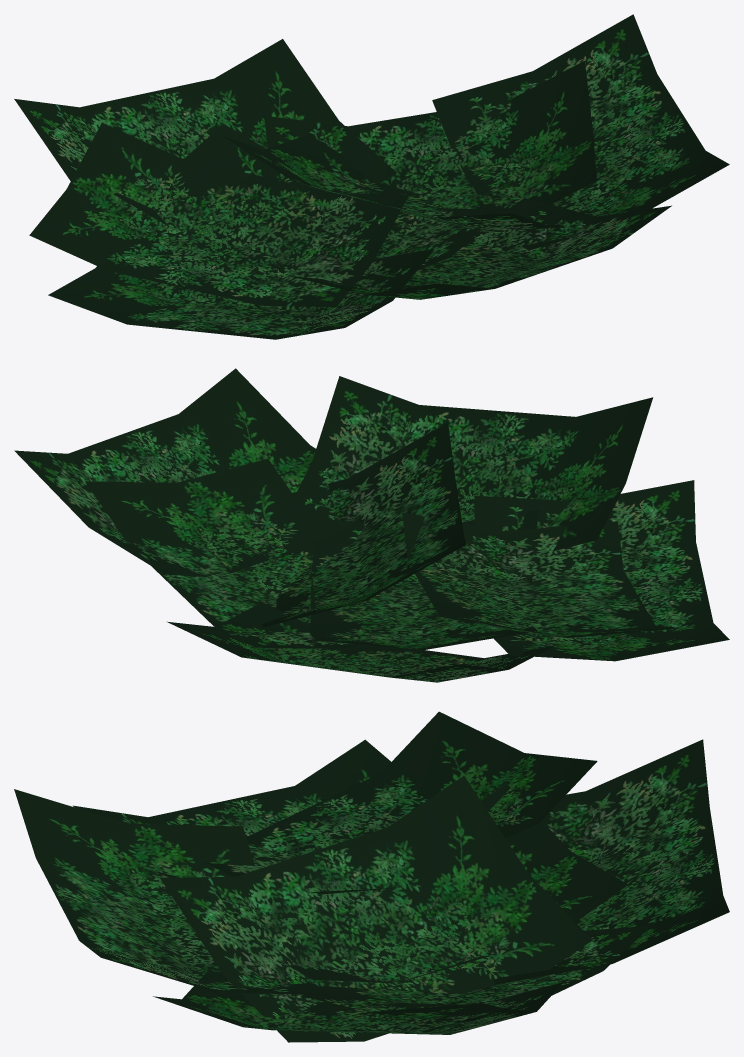
File: jungle_canopy_half.fbx
3 views of the same model, one above another, from view 1: azimuth 30°, elevation 25°; view 2: azimuth 150°, elevation 25°; view 3: azimuth 270°, elevation 25° (orthographic). The views are drawn at different scales.
Visible parts, largest first — view 1: canopy_8, canopy_1, canopy_2, canopy_7, canopy_6, canopy_4, canopy_5, canopy_3; view 2: canopy_4, canopy_2, canopy_1, canopy_8, canopy_6, canopy_3, canopy_5, canopy_7; view 3: canopy_3, canopy_4, canopy_7, canopy_8, canopy_1, canopy_2, canopy_6, canopy_5.
Part boxes in pixels (x1,y1,x2,y2): canopy_8: [29, 122, 408, 307]; canopy_1: [432, 14, 729, 250]; canopy_2: [264, 61, 596, 213]; canopy_7: [14, 39, 396, 184]; canopy_6: [48, 248, 434, 339]; canopy_4: [290, 198, 671, 299]; canopy_5: [113, 124, 504, 279]; canopy_3: [222, 134, 561, 231]; canopy_4: [283, 376, 653, 551]; canopy_2: [85, 459, 362, 648]; canopy_1: [14, 368, 356, 576]; canopy_8: [402, 512, 681, 637]; canopy_6: [474, 480, 729, 661]; canopy_3: [261, 422, 466, 627]; canopy_5: [310, 509, 538, 650]; canopy_7: [167, 602, 555, 682]; canopy_3: [160, 776, 592, 1042]; canopy_4: [14, 789, 329, 995]; canopy_7: [493, 739, 729, 984]; canopy_8: [204, 711, 597, 893]; canopy_1: [153, 969, 563, 1034]; canopy_2: [301, 925, 651, 1019]; canopy_6: [73, 739, 390, 877]; canopy_5: [288, 783, 628, 983].
Size of the model in its own units: 26532 by 4544 by 22643.
1 material, 1 textured.
